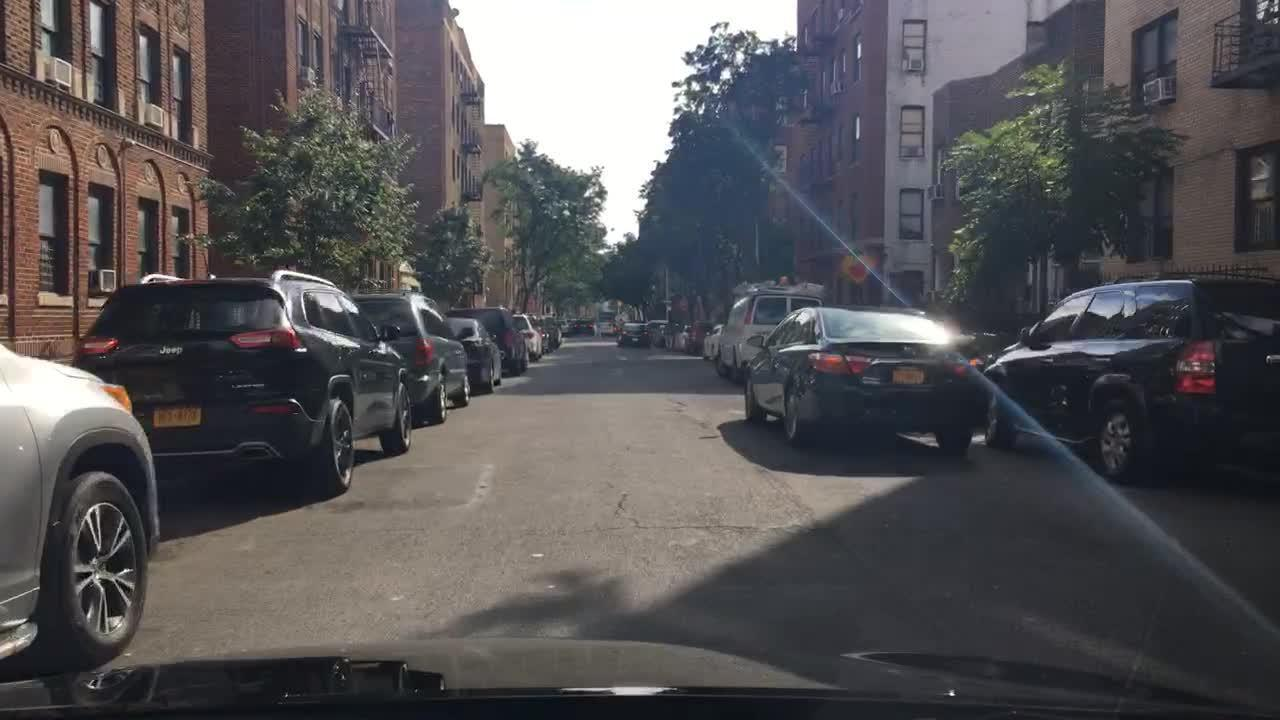jeep: (146, 344, 190, 359)
